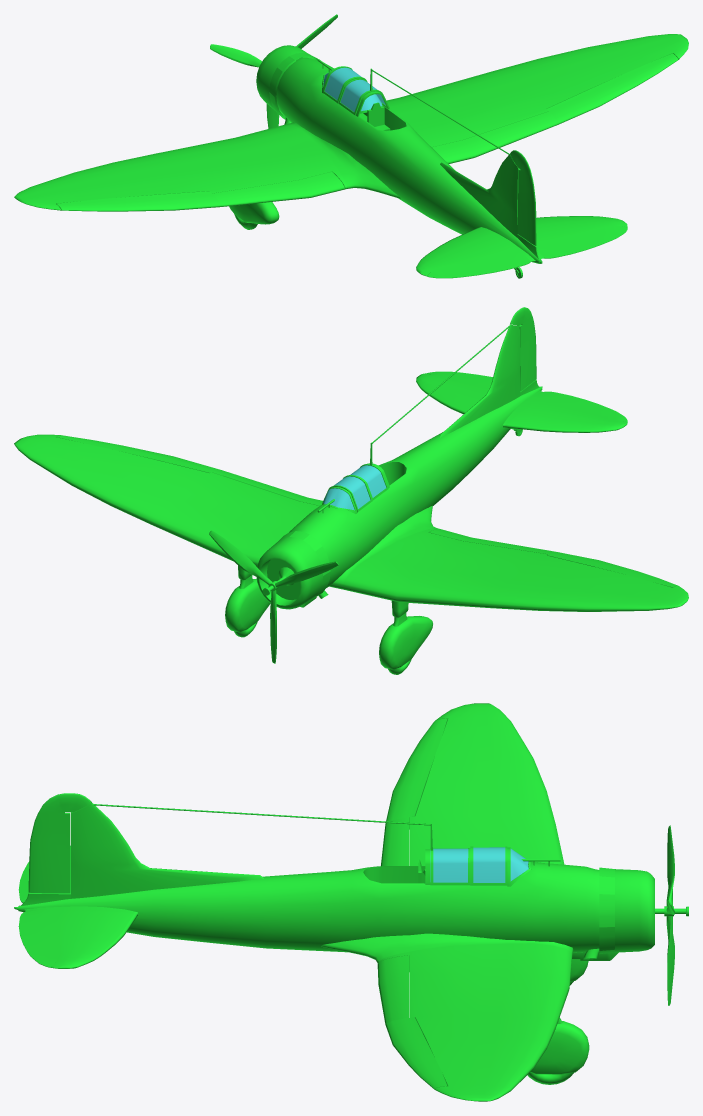
The model's file is D3-A1 Aichi 1.fbx.
3 renders of one model, top to bottom at view 1: azimuth 30°, elevation 25°; view 2: azimuth 150°, elevation 25°; view 3: azimuth 270°, elevation 25°, orthographic. The views are drawn at different scales.
Visible parts, largest first — view 1: base.029, Cylinder.017, Cylinder.024, Cylinder.016, Cylinder.022, Circle.024, Circle.020, Circle.017, base.038, Bodywork.003; view 2: base.029, Bodywork.003, base.038, Circle.017, Circle.024, Cylinder.017, Cylinder.024, Cylinder.016, Cylinder.022, Circle.020; view 3: base.029, Circle.017, base.038, Cylinder.024, Cylinder.017, Circle.020, Cylinder.016, Bodywork.003, Cylinder.022.
Boxes of the visible parts, box(x1,y1,x2,y2) form: base.029: box(14, 34, 688, 278); Cylinder.017: box(547, 53, 678, 124); Cylinder.024: box(56, 191, 221, 211); Cylinder.016: box(432, 111, 558, 163); Cylinder.022: box(212, 172, 344, 206); Circle.024: box(427, 250, 530, 278); Circle.020: box(536, 226, 627, 258); Circle.017: box(510, 150, 536, 245); base.038: box(323, 67, 385, 111); Bodywork.003: box(210, 14, 337, 128); base.029: box(14, 324, 688, 674); Bodywork.003: box(209, 530, 338, 663); base.038: box(323, 465, 386, 510); Circle.017: box(510, 307, 536, 391); Circle.024: box(534, 391, 627, 421); Cylinder.017: box(56, 435, 219, 472); Cylinder.024: box(547, 551, 677, 587); Cylinder.016: box(212, 469, 322, 505); Cylinder.022: box(429, 528, 554, 554); Circle.020: box(427, 371, 492, 389); base.029: box(14, 703, 654, 1101); Circle.017: box(28, 793, 91, 893); base.038: box(430, 847, 528, 882); Cylinder.024: box(385, 718, 447, 829); Cylinder.017: box(385, 1017, 447, 1089); Circle.020: box(18, 909, 60, 967); Cylinder.016: box(377, 955, 409, 1024); Bodywork.003: box(655, 825, 688, 1005); Cylinder.022: box(381, 817, 409, 866).
Bounding box in the file's own units: 1424 × 1022 × 409.
